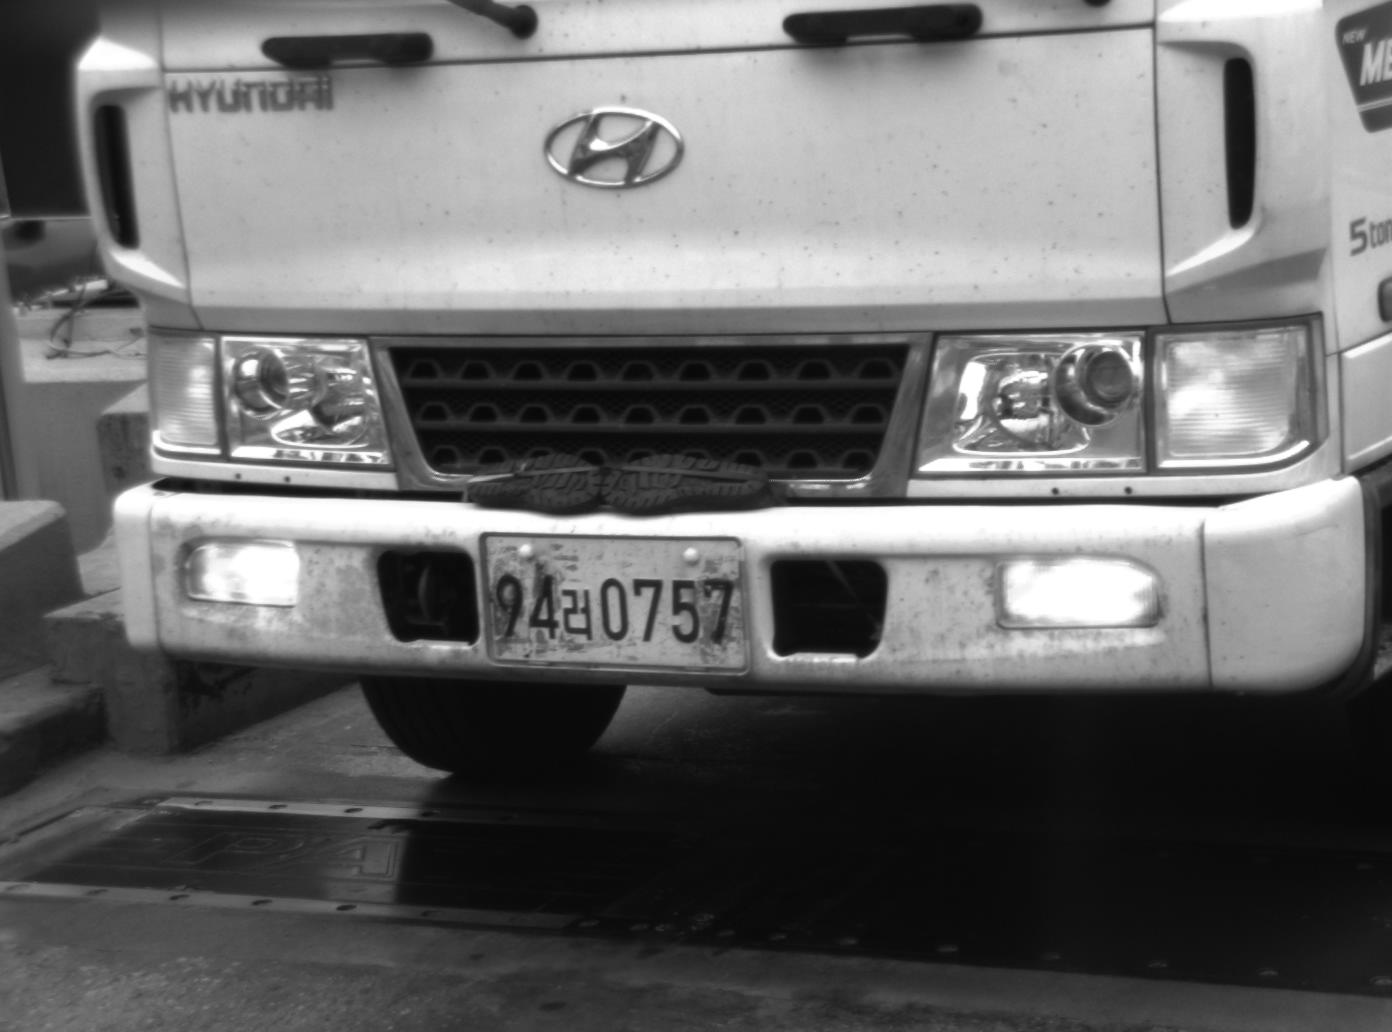car: (70, 1, 1390, 778)
plate: (474, 530, 757, 671)
